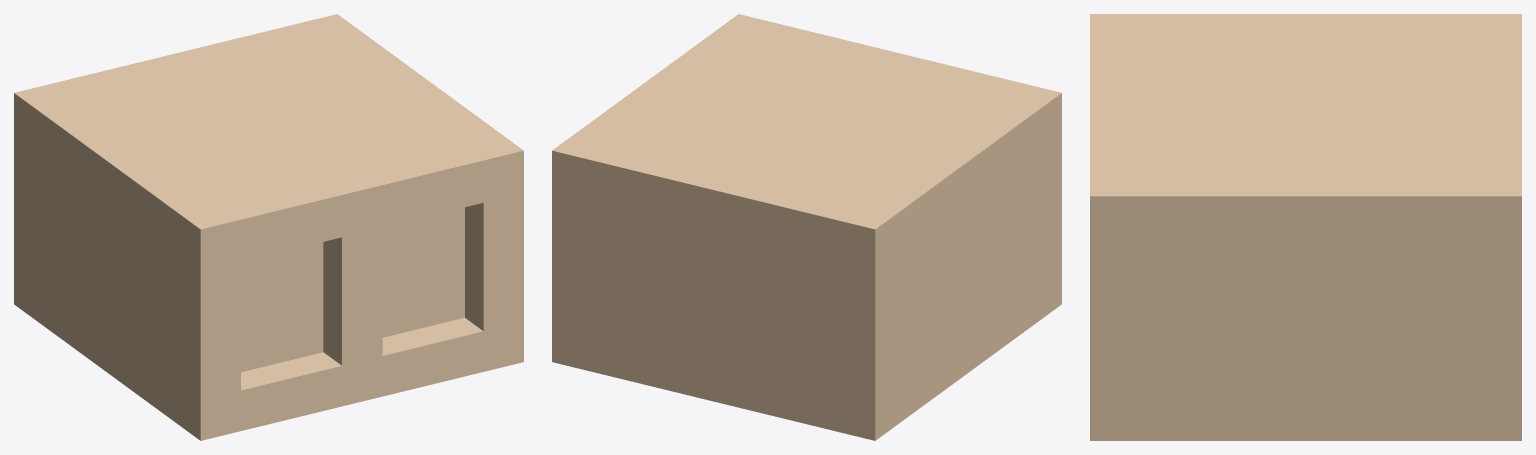
File: building-windows.obj
3 renders of one model, left to right at view 1: azimuth 30°, elevation 25°; view 2: azimuth 150°, elevation 25°; view 3: azimuth 270°, elevation 25°, orthographic. The views are drawn at different scales.
Bounding box in the file's own units: 1 × 0.625 × 1.
